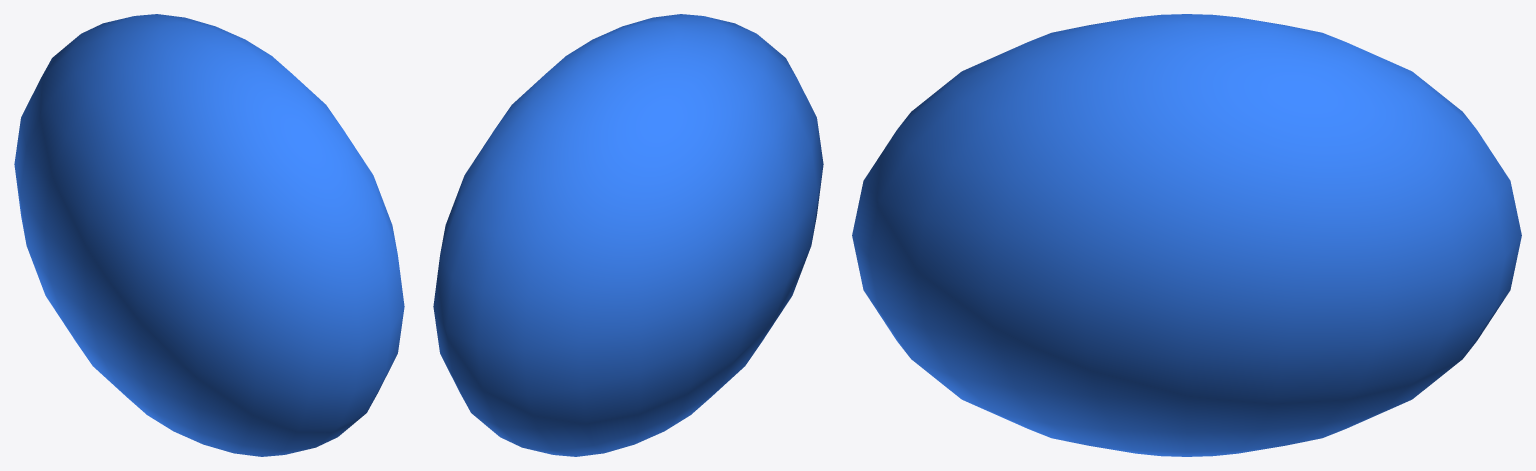
File: mouse.obj
The picture shows the model from 3 angles, left to right: view 1: azimuth 30°, elevation 25°; view 2: azimuth 150°, elevation 25°; view 3: azimuth 270°, elevation 25°; orthographic projection. The views are drawn at different scales.
Visible parts, largest first — view 1: mouse; view 2: mouse; view 3: mouse.
Boxes of the visible parts, <box> form: mouse: <box>14,14,404,456</box>; mouse: <box>433,14,823,456</box>; mouse: <box>852,14,1521,456</box>.
Size of the model in its own units: 2.2 by 3.2 by 4.6.
